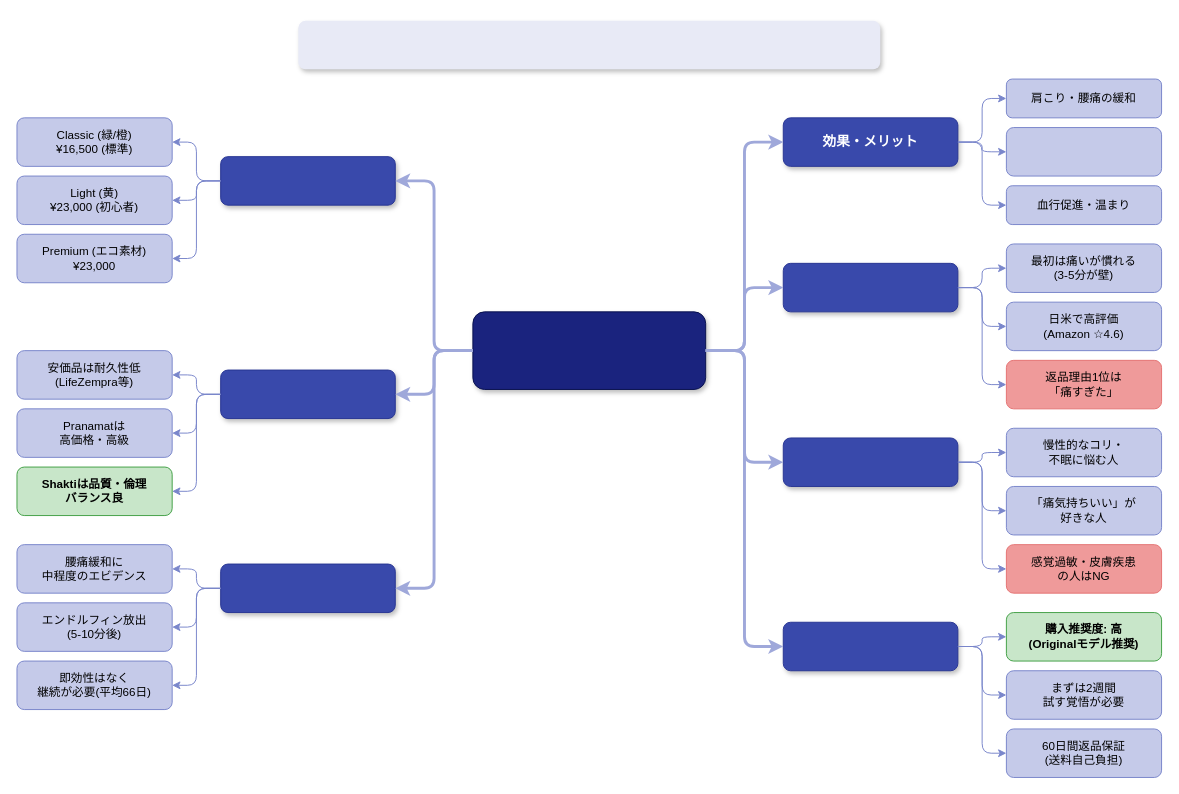
The diagram is 1179 pixels wide and 794 high, and some of its shapes have lost their labels. The centre of each missing label's shape, as x and y in pixels:
"シャクティマット 購入検討" goes at pixel 589 351.
"シャクティマット購入検討リサーチマップ" goes at pixel 590 46.
"口コミ・評判" goes at pixel 871 289.
"推奨ユーザー" goes at pixel 871 463.
"睡眠の質向上・ リラックス" goes at pixel 1083 151.
"科学的根拠" goes at pixel 308 589.
"競合比較" goes at pixel 308 395.
"総合結論" goes at pixel 871 647.
"製品・価格" goes at pixel 308 182.
